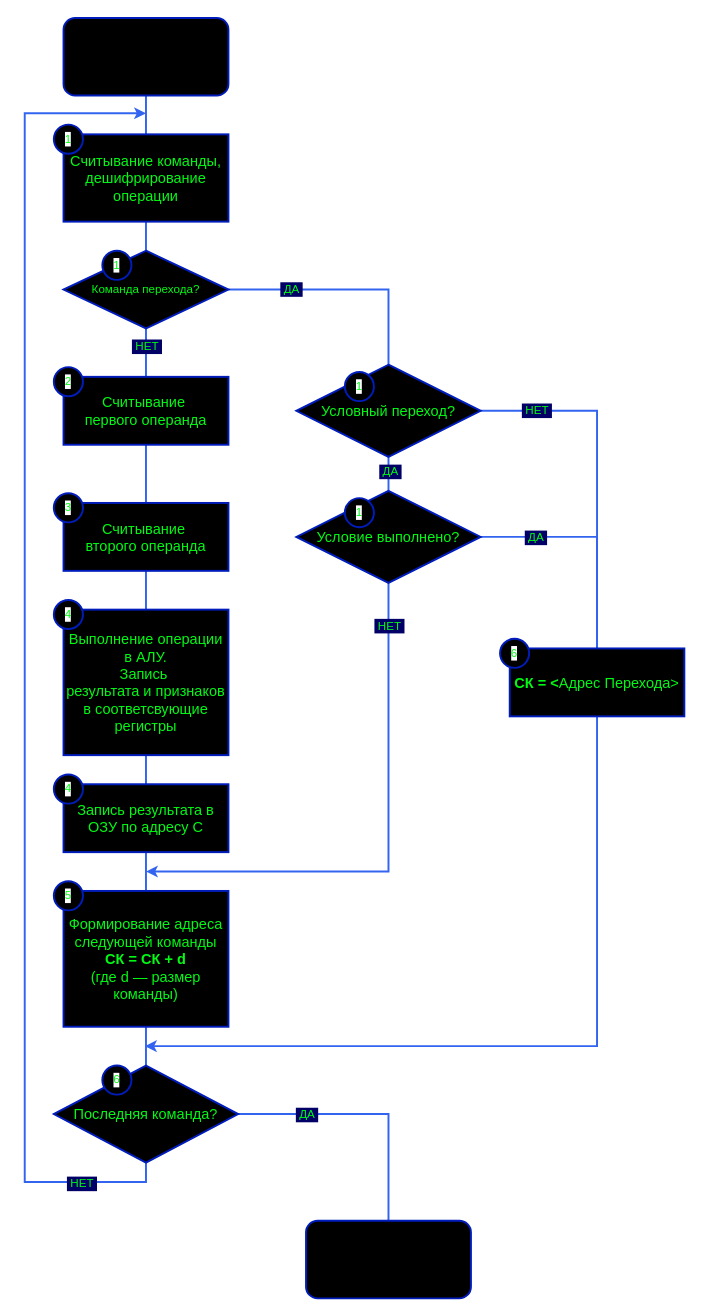
Some shapes in this 701 by 1315 pixel diagram are drawn without their labels. Each missing label, with the centre of its shape:
Cтарт: point (145, 56)
Остановка: point (388, 1259)
